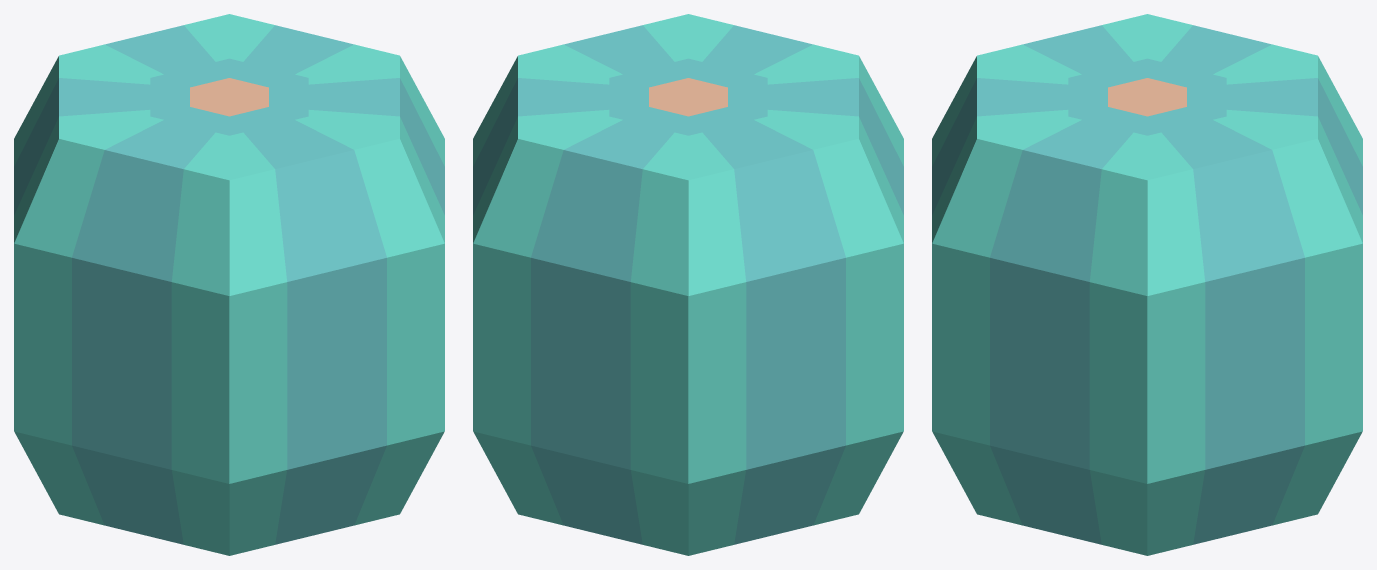
File: crop_melon.glb
3 views of the same model, side by side, from view 1: azimuth 30°, elevation 25°; view 2: azimuth 150°, elevation 25°; view 3: azimuth 270°, elevation 25° (orthographic).
Visible parts, largest first — view 1: crop_melon; view 2: crop_melon; view 3: crop_melon.
Part boxes in pixels (x1,y1,x2,y2): crop_melon: (14,14,444,555); crop_melon: (473,14,903,555); crop_melon: (932,14,1362,555).
Size of the model in its own units: 0.4176 by 0.348 by 0.3617.
